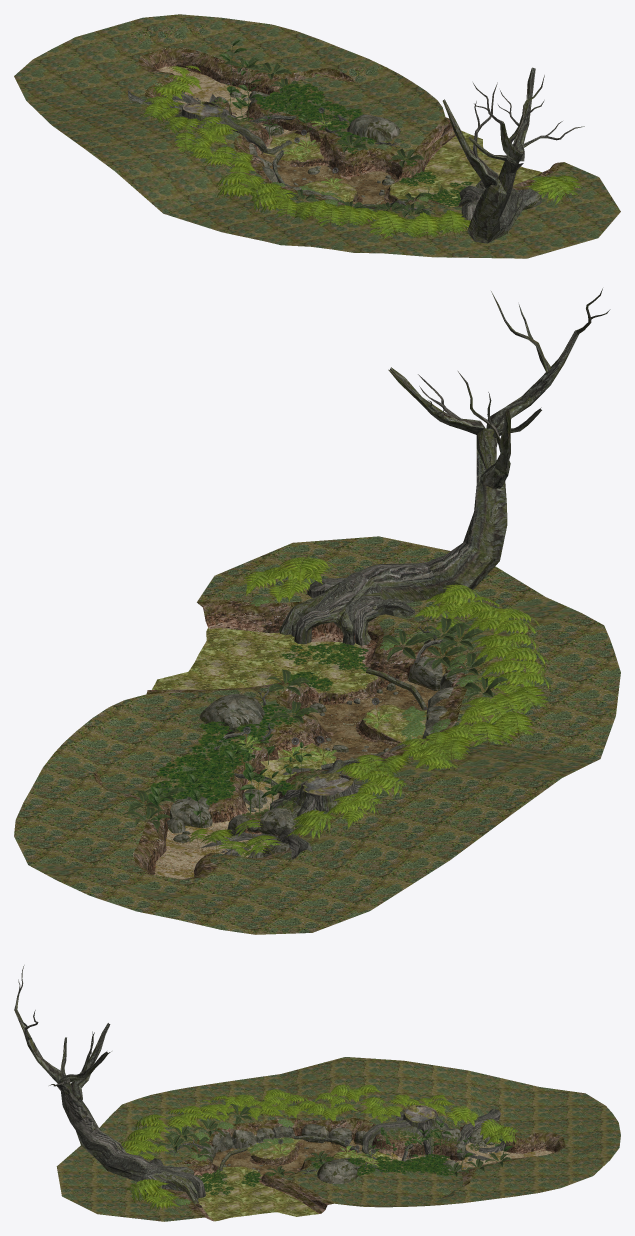
The model's file is nature_scene_free.glb.
3 views of the same model, one above another, from view 1: azimuth 30°, elevation 25°; view 2: azimuth 150°, elevation 25°; view 3: azimuth 270°, elevation 25° (orthographic). The views are drawn at different scales.
Visible parts, largest first — view 1: Object_15, Object_24, Object_11, Object_12, Object_10, Object_21, Object_13, Object_14, Object_23, Object_16, Object_9, Object_7 (+1 smaller); view 2: Object_15, Object_12, Object_24, Object_11, Object_10, Object_21, Object_13, Object_23, Object_14, Object_16, Object_9, Object_6; view 3: Object_15, Object_12, Object_24, Object_11, Object_10, Object_13, Object_21, Object_23, Object_14, Object_16, Object_9, Object_6.
Part boxes in pixels (bbox=[...]): Object_15: bbox=[14, 14, 620, 258]; Object_24: bbox=[142, 65, 582, 239]; Object_11: bbox=[137, 48, 563, 211]; Object_12: bbox=[128, 67, 584, 243]; Object_10: bbox=[263, 130, 541, 207]; Object_21: bbox=[178, 82, 541, 211]; Object_13: bbox=[162, 91, 400, 209]; Object_14: bbox=[257, 153, 396, 209]; Object_23: bbox=[224, 57, 430, 217]; Object_16: bbox=[157, 66, 296, 137]; Object_9: bbox=[219, 40, 312, 138]; Object_7: bbox=[283, 110, 342, 189]; Object_15: bbox=[14, 536, 620, 934]; Object_12: bbox=[201, 288, 610, 859]; Object_24: bbox=[189, 557, 552, 858]; Object_11: bbox=[92, 600, 469, 879]; Object_10: bbox=[152, 628, 426, 785]; Object_21: bbox=[151, 596, 477, 849]; Object_13: bbox=[167, 656, 456, 858]; Object_23: bbox=[123, 617, 508, 828]; Object_14: bbox=[301, 680, 438, 763]; Object_16: bbox=[155, 780, 279, 879]; Object_9: bbox=[148, 734, 311, 832]; Object_6: bbox=[260, 707, 427, 795]; Object_15: bbox=[56, 1057, 620, 1221]; Object_12: bbox=[14, 965, 506, 1204]; Object_24: bbox=[121, 1084, 521, 1210]; Object_11: bbox=[163, 1117, 565, 1221]; Object_10: bbox=[197, 1137, 390, 1221]; Object_13: bbox=[201, 1124, 494, 1183]; Object_21: bbox=[175, 1118, 479, 1205]; Object_23: bbox=[157, 1104, 511, 1176]; Object_14: bbox=[212, 1139, 362, 1175]; Object_16: bbox=[390, 1141, 554, 1169]; Object_9: bbox=[364, 1120, 512, 1168]; Object_6: bbox=[219, 1105, 437, 1170].
Size of what is drawn, in the model's own units: 1504 by 946 by 2557.
14 materials, 14 textured.
